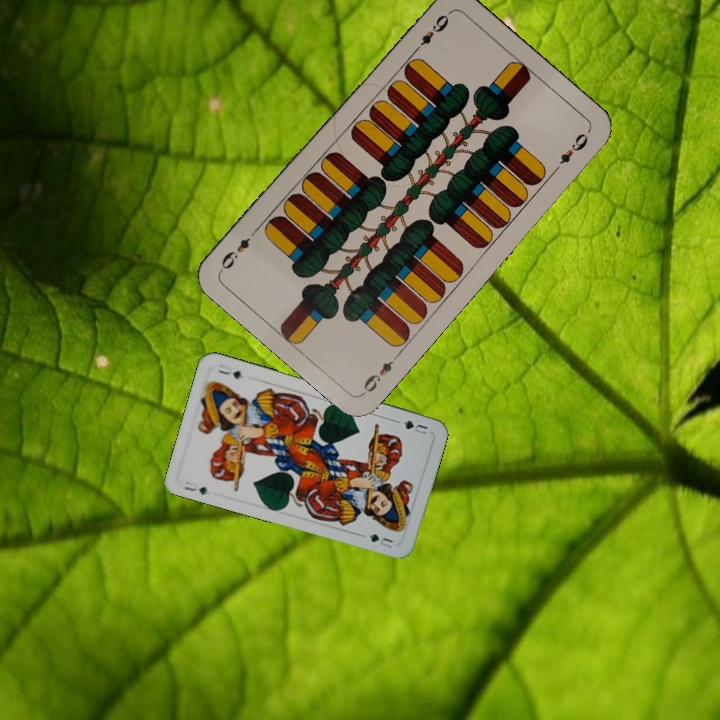E9: (409, 8, 453, 56), (359, 349, 403, 397)
GU: (399, 416, 430, 437), (179, 477, 210, 497)
